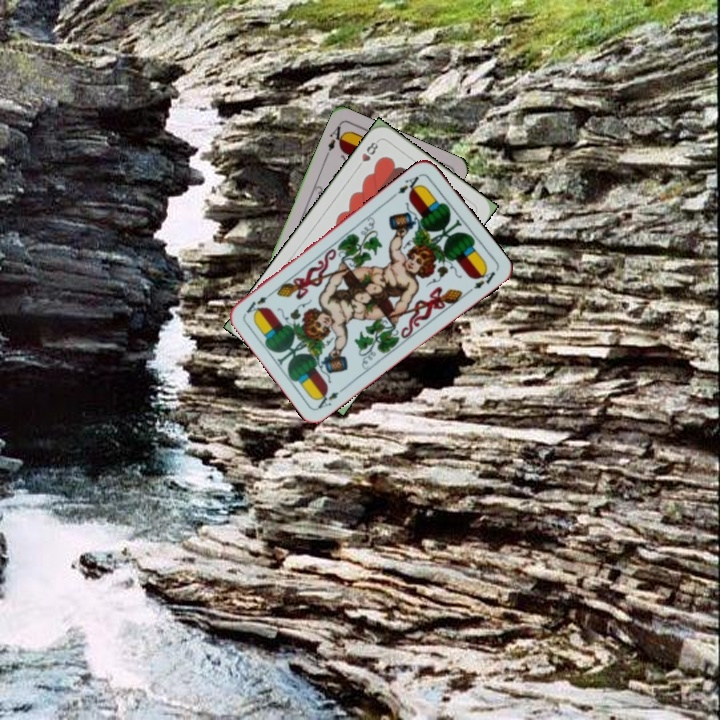EA: (312, 382, 349, 411), (393, 170, 424, 197), (324, 120, 348, 154)
H8: (353, 136, 381, 172)
